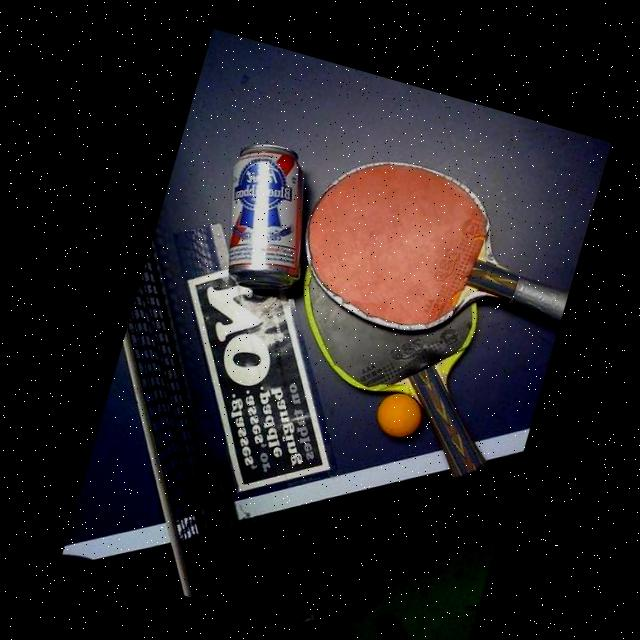ping-pong-ball: (369, 387, 426, 444)
